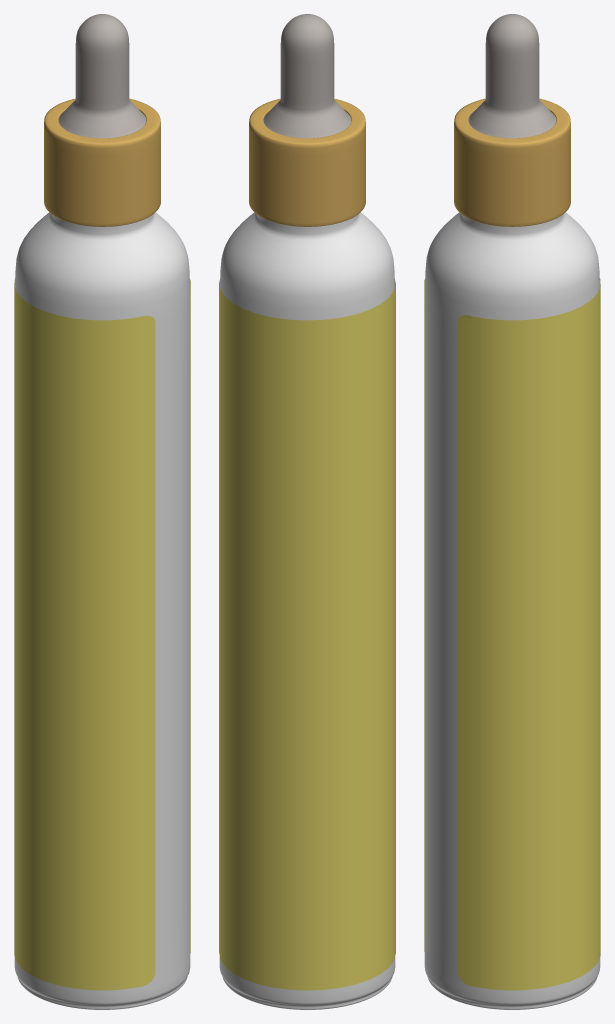
Rendered from Oil Bottle.fbx.
3 renders of one model, left to right at view 1: azimuth 30°, elevation 25°; view 2: azimuth 150°, elevation 25°; view 3: azimuth 270°, elevation 25°, orthographic.
Parts seen in each view (by area): view 1: NEW-bottle, plastic_cap; view 2: NEW-bottle, plastic_cap; view 3: NEW-bottle, plastic_cap.
Boxes of the visible parts, left/top/right/bottom form: NEW-bottle: left=14, top=212, right=190, bottom=1009; plastic_cap: left=44, top=14, right=160, bottom=226; NEW-bottle: left=219, top=212, right=395, bottom=1009; plastic_cap: left=249, top=14, right=365, bottom=226; NEW-bottle: left=424, top=212, right=600, bottom=1009; plastic_cap: left=454, top=14, right=570, bottom=226.
Size of the model in its own units: 122 by 730 by 122.
